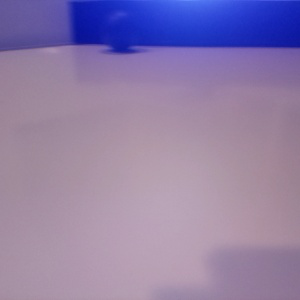dead_ball: (101, 11, 139, 49)
